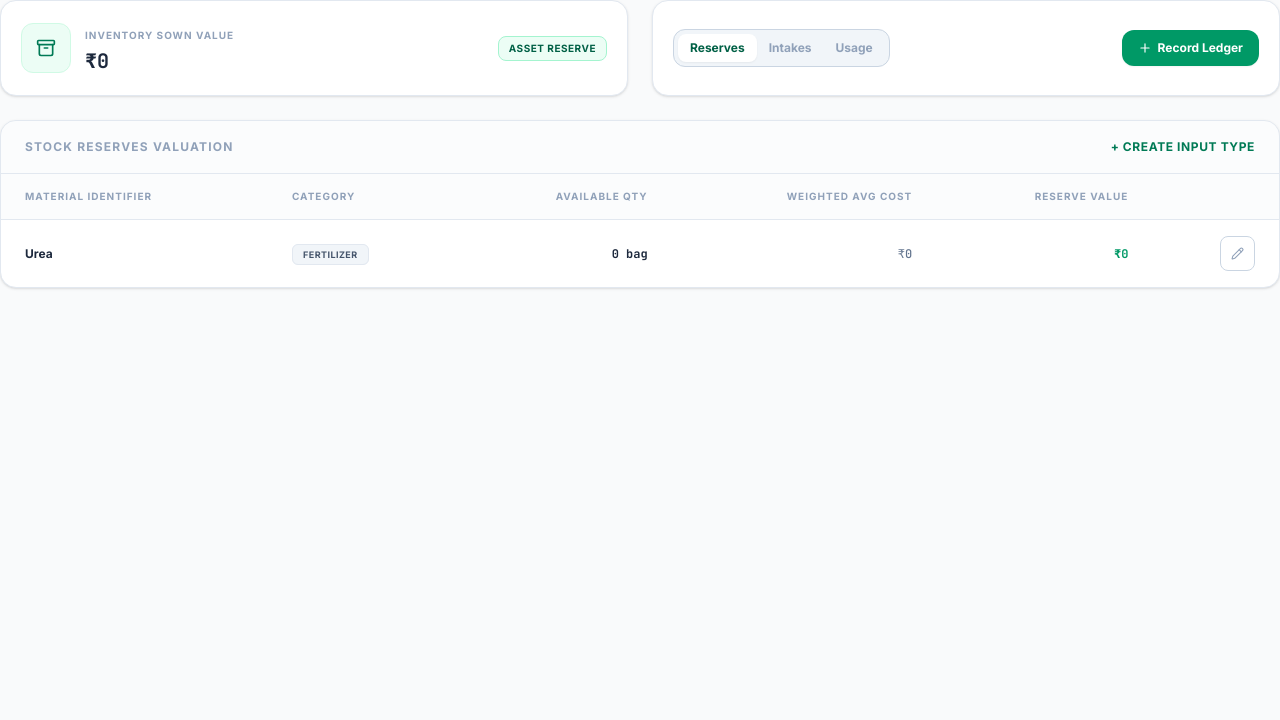
Scenario: Stock tab: recording a purchase paid by several partners › refuses amounts that do not add up to the bill
Step 1. Click the button "Record Ledger" → [1190, 48], box [1122, 30, 1259, 66]
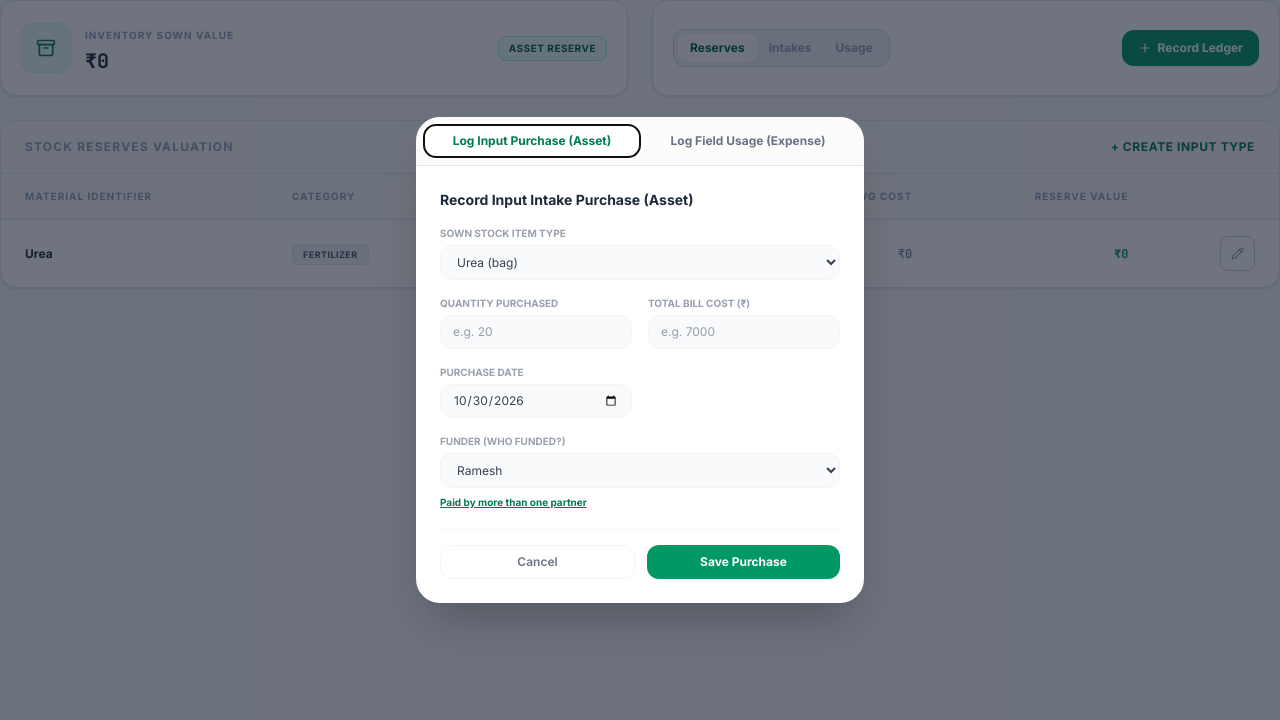
Step 2. Type "10" into the number field with placeholder "e.g. 20" → [536, 332], box [440, 315, 632, 349]
Step 3. Type "1000" into the number field with placeholder "e.g. 7000" → [744, 332], box [648, 315, 840, 349]
Step 4. Click the button "Paid by more than one partner" → [513, 502], box [440, 495, 587, 510]
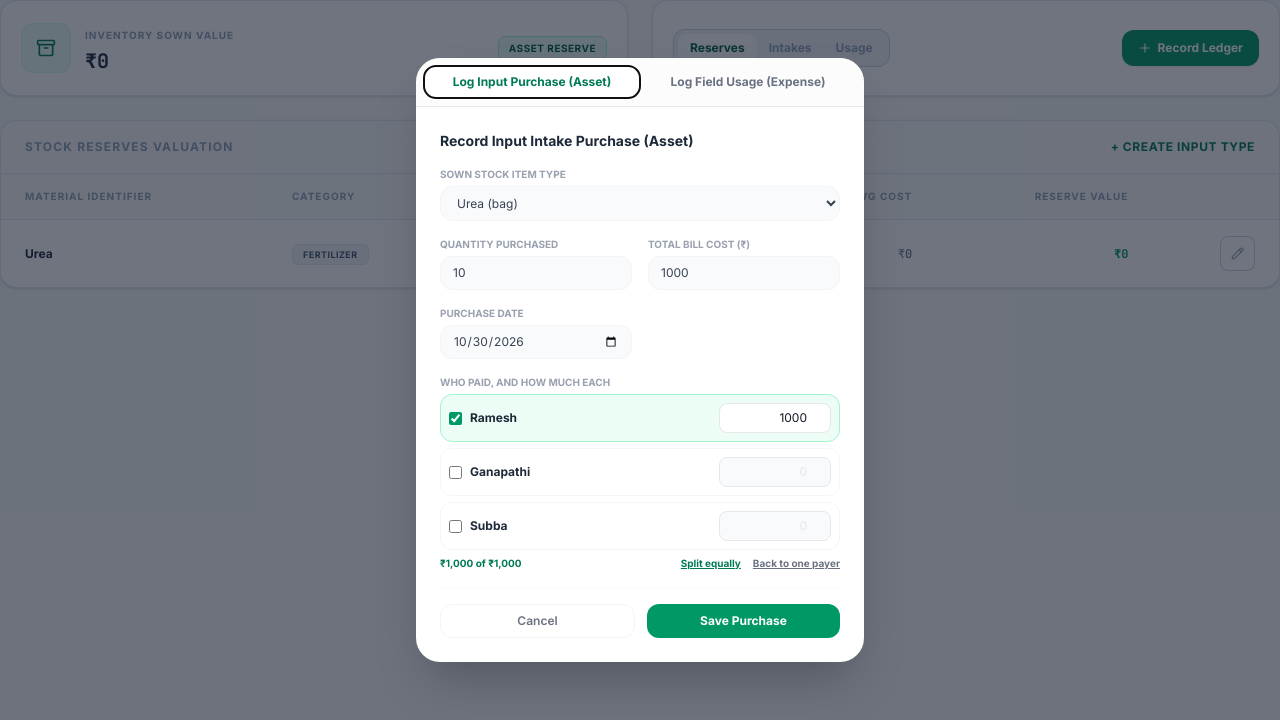
Step 5. Click the checkbox labelled "Ganapathi" → [456, 472], box [449, 466, 462, 478]
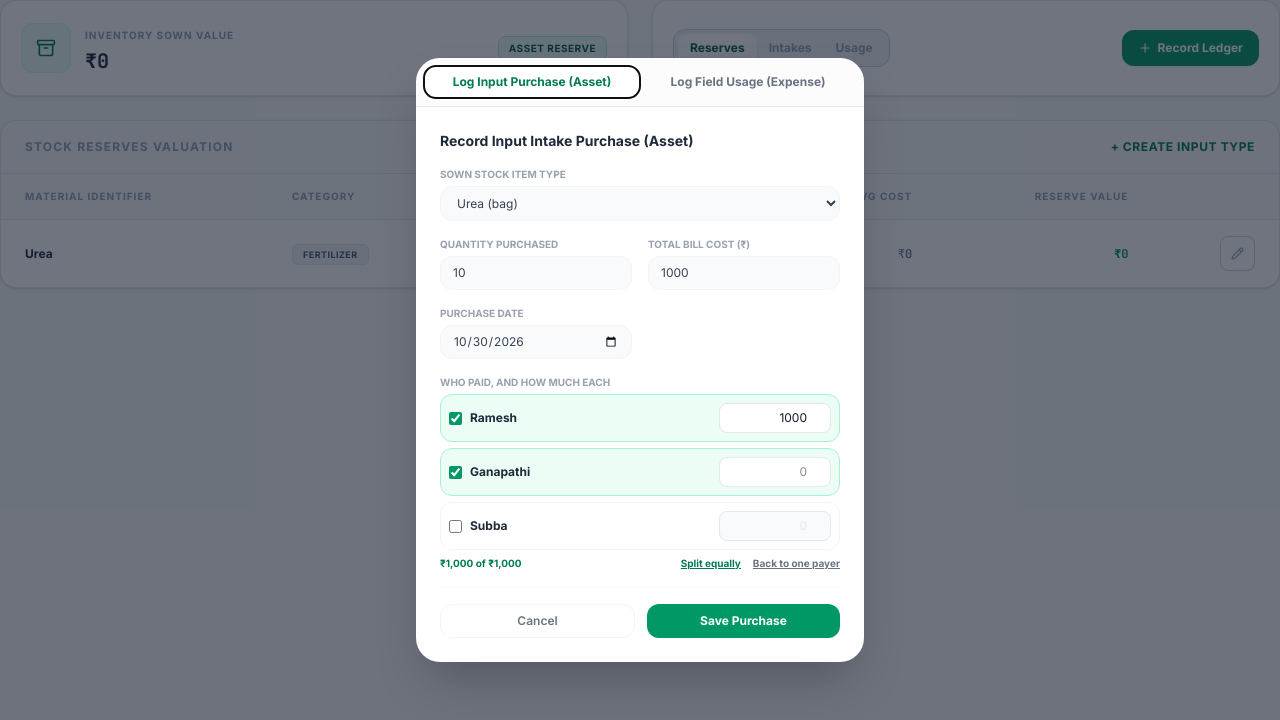
Step 6. Replace the text in the number field named "Amount paid by Ramesh" with "600" → [775, 418], box [719, 403, 831, 433]
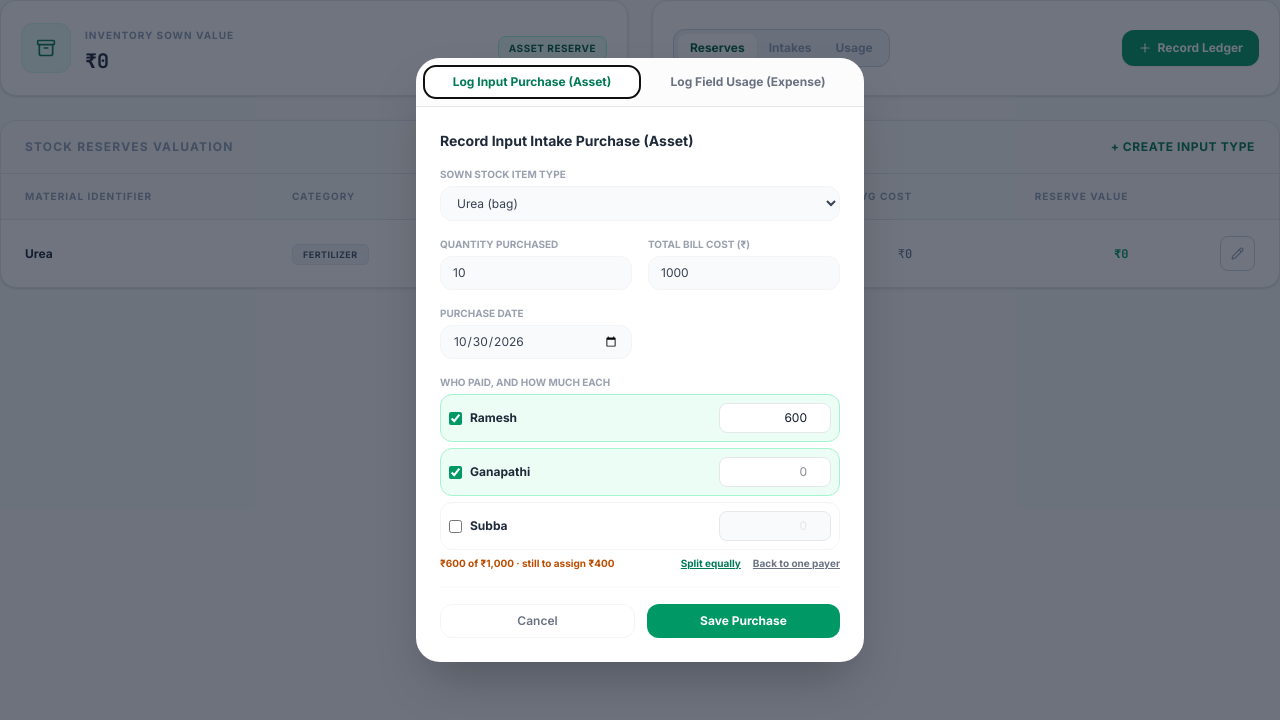
Step 7. Type "100" into the number field named "Amount paid by Ganapathi" → [775, 472], box [719, 457, 831, 487]
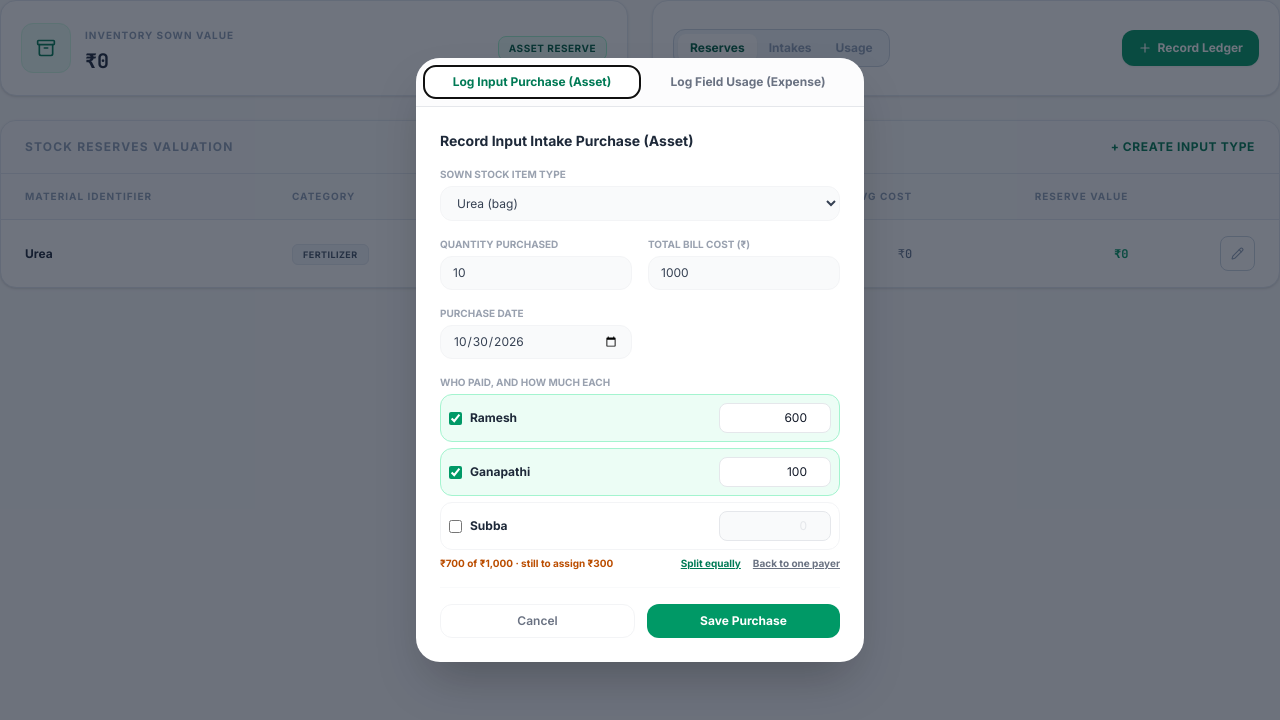
Step 8. Submit the form with placeholder "e.g. 7000", box [416, 107, 864, 662]
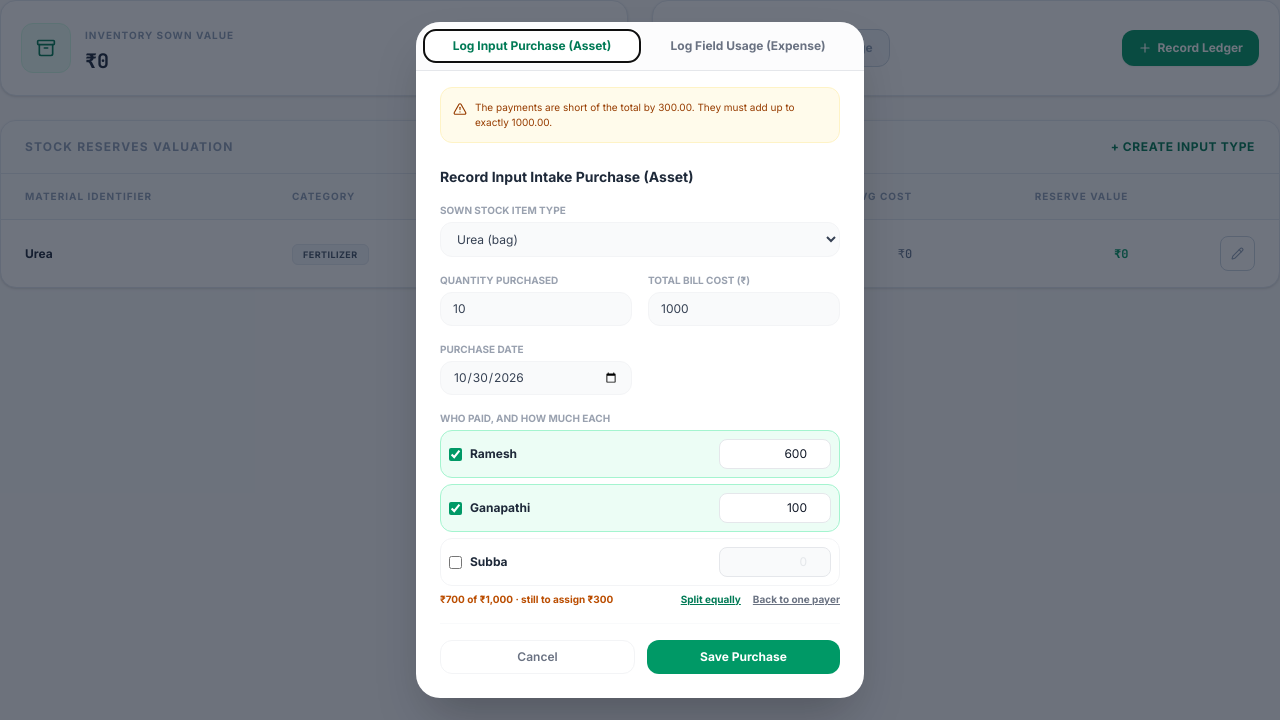
Check: the text "short of the total by 300.00" is shown, box [475, 101, 795, 128]
